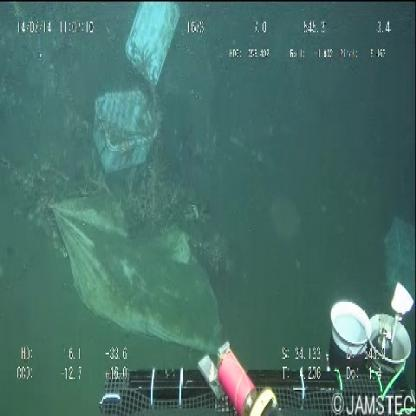Rov: (89, 277, 416, 416)
Rác: (85, 1, 181, 185)
